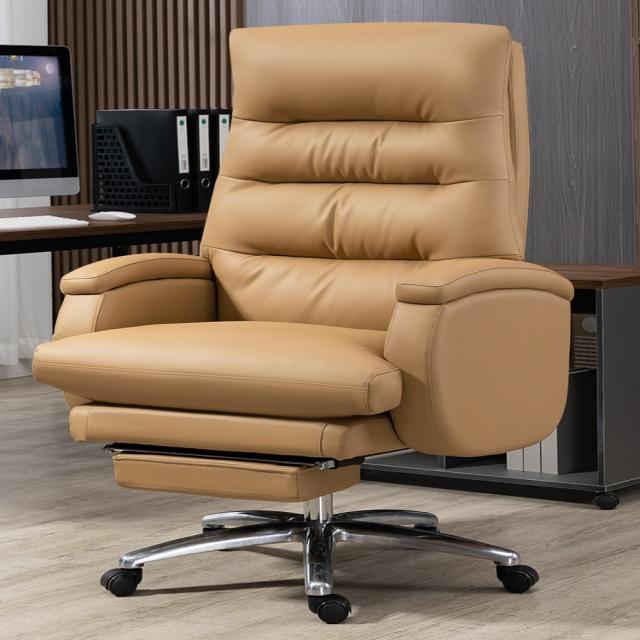chair: (25, 7, 640, 640)
